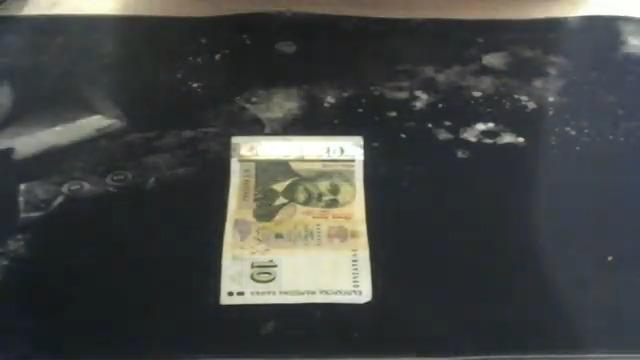10leva: (241, 258, 282, 289)
